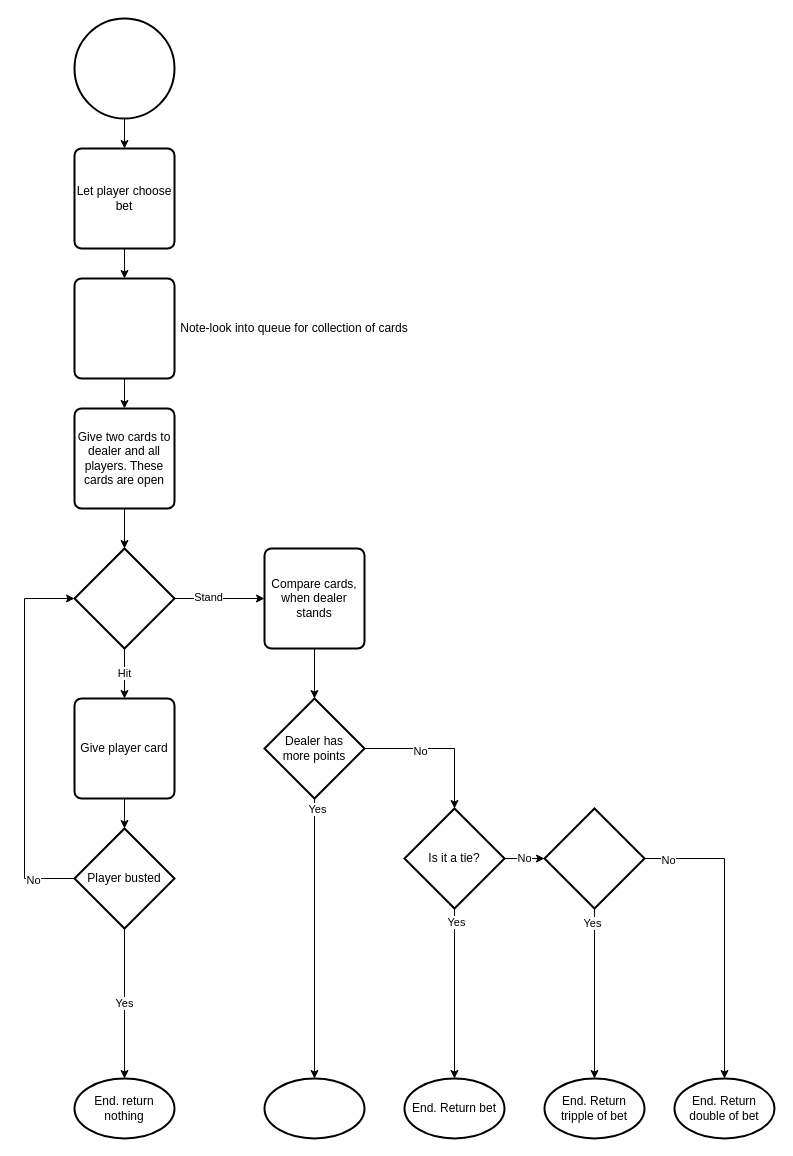
Image size: 793x1156. Some labels were removed from this diagram. Each missing label, with the centre of its shape:
Ask all players to hit or stand: pixel 124 598
End. Return half of bet: pixel 314 1108
Is it a blackjack?: pixel 594 858
Shuffle deck of cards: pixel 124 328
Start: pixel 124 68
